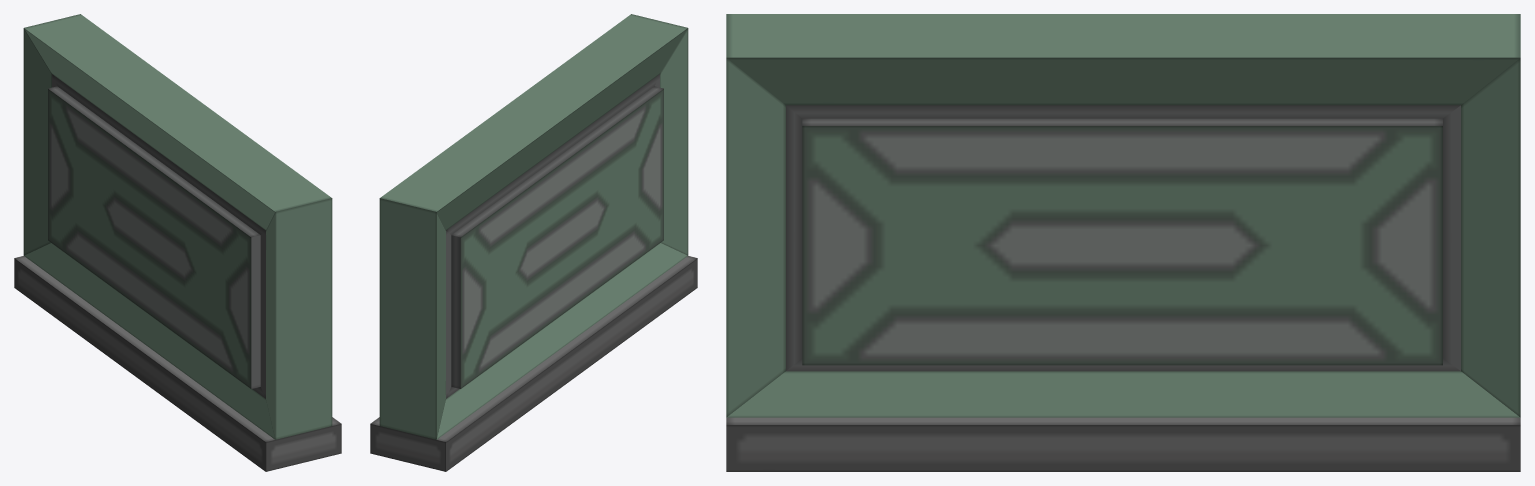
Rendered from wall.fbx.
3 renders of one model, left to right at view 1: azimuth 30°, elevation 25°; view 2: azimuth 150°, elevation 25°; view 3: azimuth 270°, elevation 25°, orthographic. The views are drawn at different scales.
Parts seen in each view (by area): view 1: cuboid; view 2: cuboid; view 3: cuboid.
Boxes of the visible parts, box(x1,y1,x2,y2) form: cuboid: box(14, 14, 341, 471); cuboid: box(370, 14, 697, 471); cuboid: box(726, 14, 1520, 471).
Size of the model in its own units: 50 by 162 by 288.
Materials: 1 (1 with a texture image).
